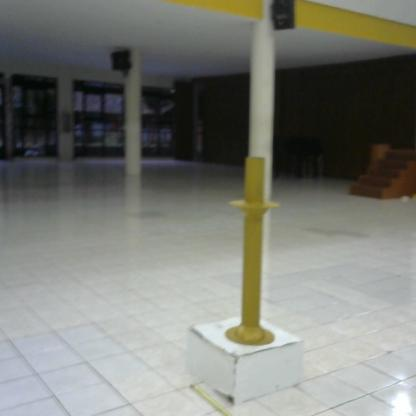pole: (219, 150, 280, 354)
